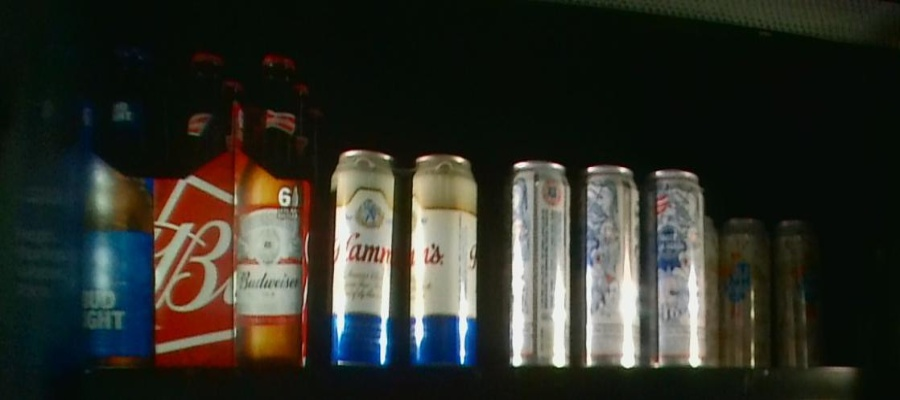bottle: (152, 43, 314, 371), (1, 36, 153, 368), (497, 159, 697, 367), (317, 141, 484, 364), (725, 212, 818, 367), (702, 213, 720, 372)
